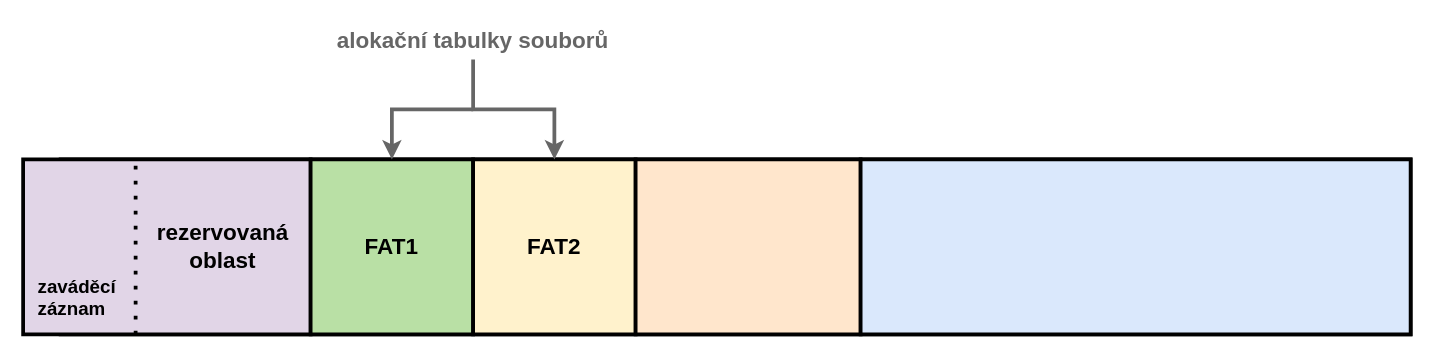
The diagram is 1434 pixels wide and 359 high, and some of its shapes have lost their labels. The box of each missing label's shape, as (x1, y1, x2, y2) in pixels:
datová oblast (soubory a adresáře): (858, 157, 1412, 336)
kořenový adresář: (633, 157, 862, 336)
